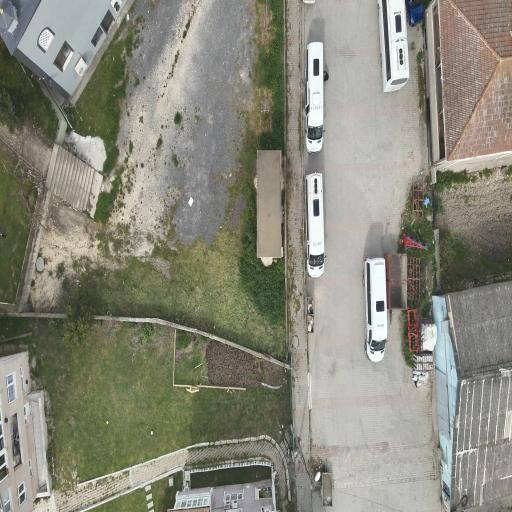car: (377, 0, 408, 90), (362, 256, 386, 360), (305, 42, 324, 154), (305, 172, 325, 278), (405, 0, 423, 26)
person: (323, 71, 327, 80)
